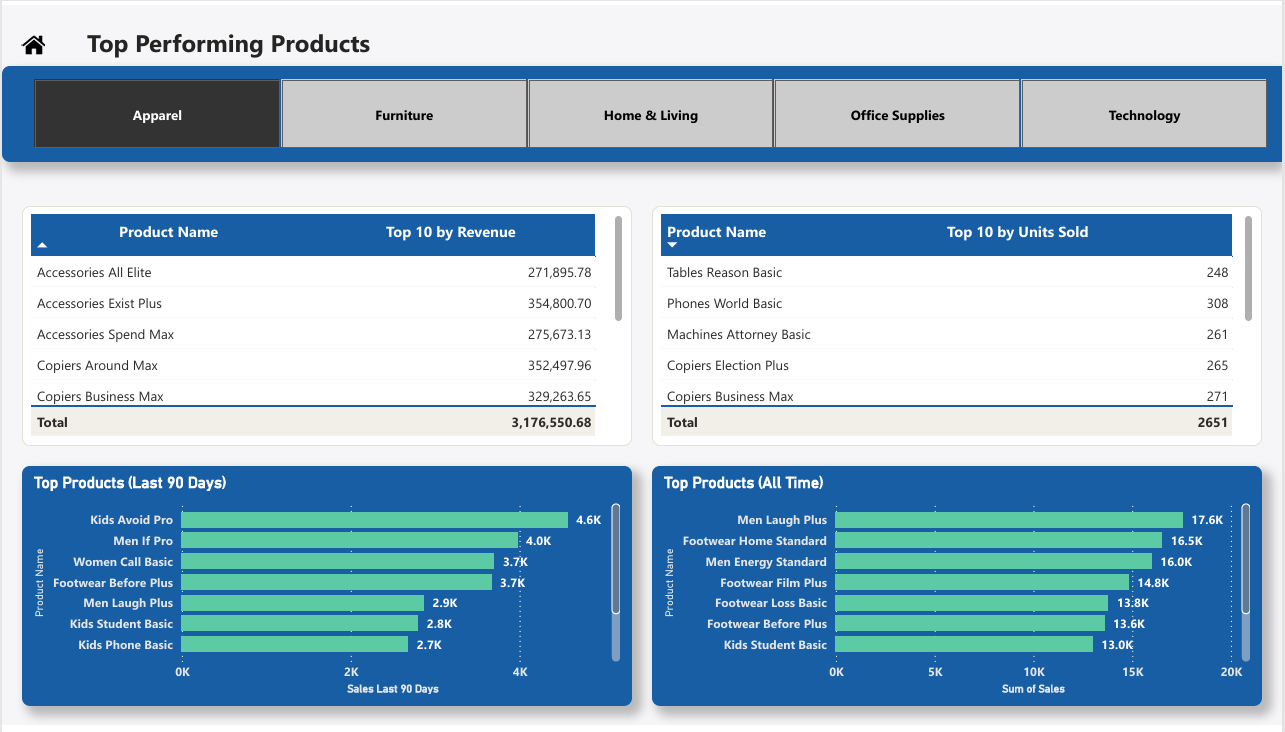

The page's visual inventory and layout, read from the dashboard file:
{"tool":"powerbi","page":{"name":"Top Performing Products","canvas":[1280,720],"ordinal":3},"visuals":[{"type":"image","box":[20,15,24,48],"z":0,"group":"g1"},{"type":"slicer","fields":{"Values":["sales_revenue_dataset.Category"]},"box":[0,60,1296,96],"z":0},{"type":"group","id":"g1","title":"Group 1","box":[20,15,492,72],"z":1000},{"type":"textbox","box":[80,15,432,72],"z":1000,"group":"g1"},{"type":"clusteredBarChart","title":"Top Products (All Time)","fields":{"Category":["sales_revenue_dataset.Product Name"],"Y":["Sum(sales_revenue_dataset.Sales)"]},"box":[650,460,610,240],"z":2000},{"type":"clusteredBarChart","title":"Top Products (Last 90 Days)","fields":{"Category":["sales_revenue_dataset.Product Name"],"Y":["sales_revenue_dataset.Sales Last 90 Days"]},"box":[20,460,610,240],"z":3000},{"type":"tableEx","fields":{"Values":["sales_revenue_dataset.Product Name","sales_revenue_dataset.Top 10 by Revenue"]},"box":[20,200,610,240],"z":4000},{"type":"tableEx","fields":{"Values":["sales_revenue_dataset.Product Name","sales_revenue_dataset.Top 10 by Units Sold"]},"box":[650,200,610,240],"z":5000}]}

Visuals, with their boxes in screenshot pixels (x1, y1, x2, y2), scaled from the page's 1280x720 canvas onto the 1285x732 screenshot:
image: x1=20 y1=15 x2=44 y2=64
slicer - sales_revenue_dataset.Category: x1=0 y1=61 x2=1284 y2=159
"Group 1" group: x1=20 y1=15 x2=514 y2=88
textbox: x1=80 y1=15 x2=514 y2=88
"Top Products (All Time)" clusteredBarChart: x1=653 y1=468 x2=1265 y2=712
"Top Products (Last 90 Days)" clusteredBarChart: x1=20 y1=468 x2=632 y2=712
tableEx - sales_revenue_dataset.Product Name x sales_revenue_dataset.Top 10 by Revenue: x1=20 y1=203 x2=632 y2=447
tableEx - sales_revenue_dataset.Product Name x sales_revenue_dataset.Top 10 by Units Sold: x1=653 y1=203 x2=1265 y2=447
